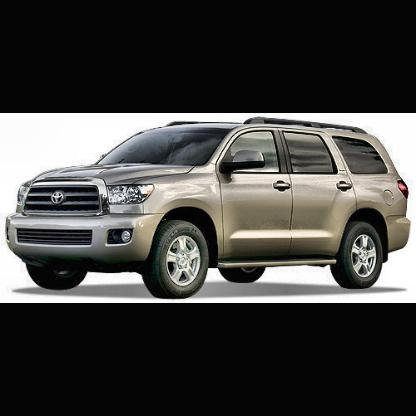Toyota Sequoia SUV 2012: (4, 114, 413, 302)
